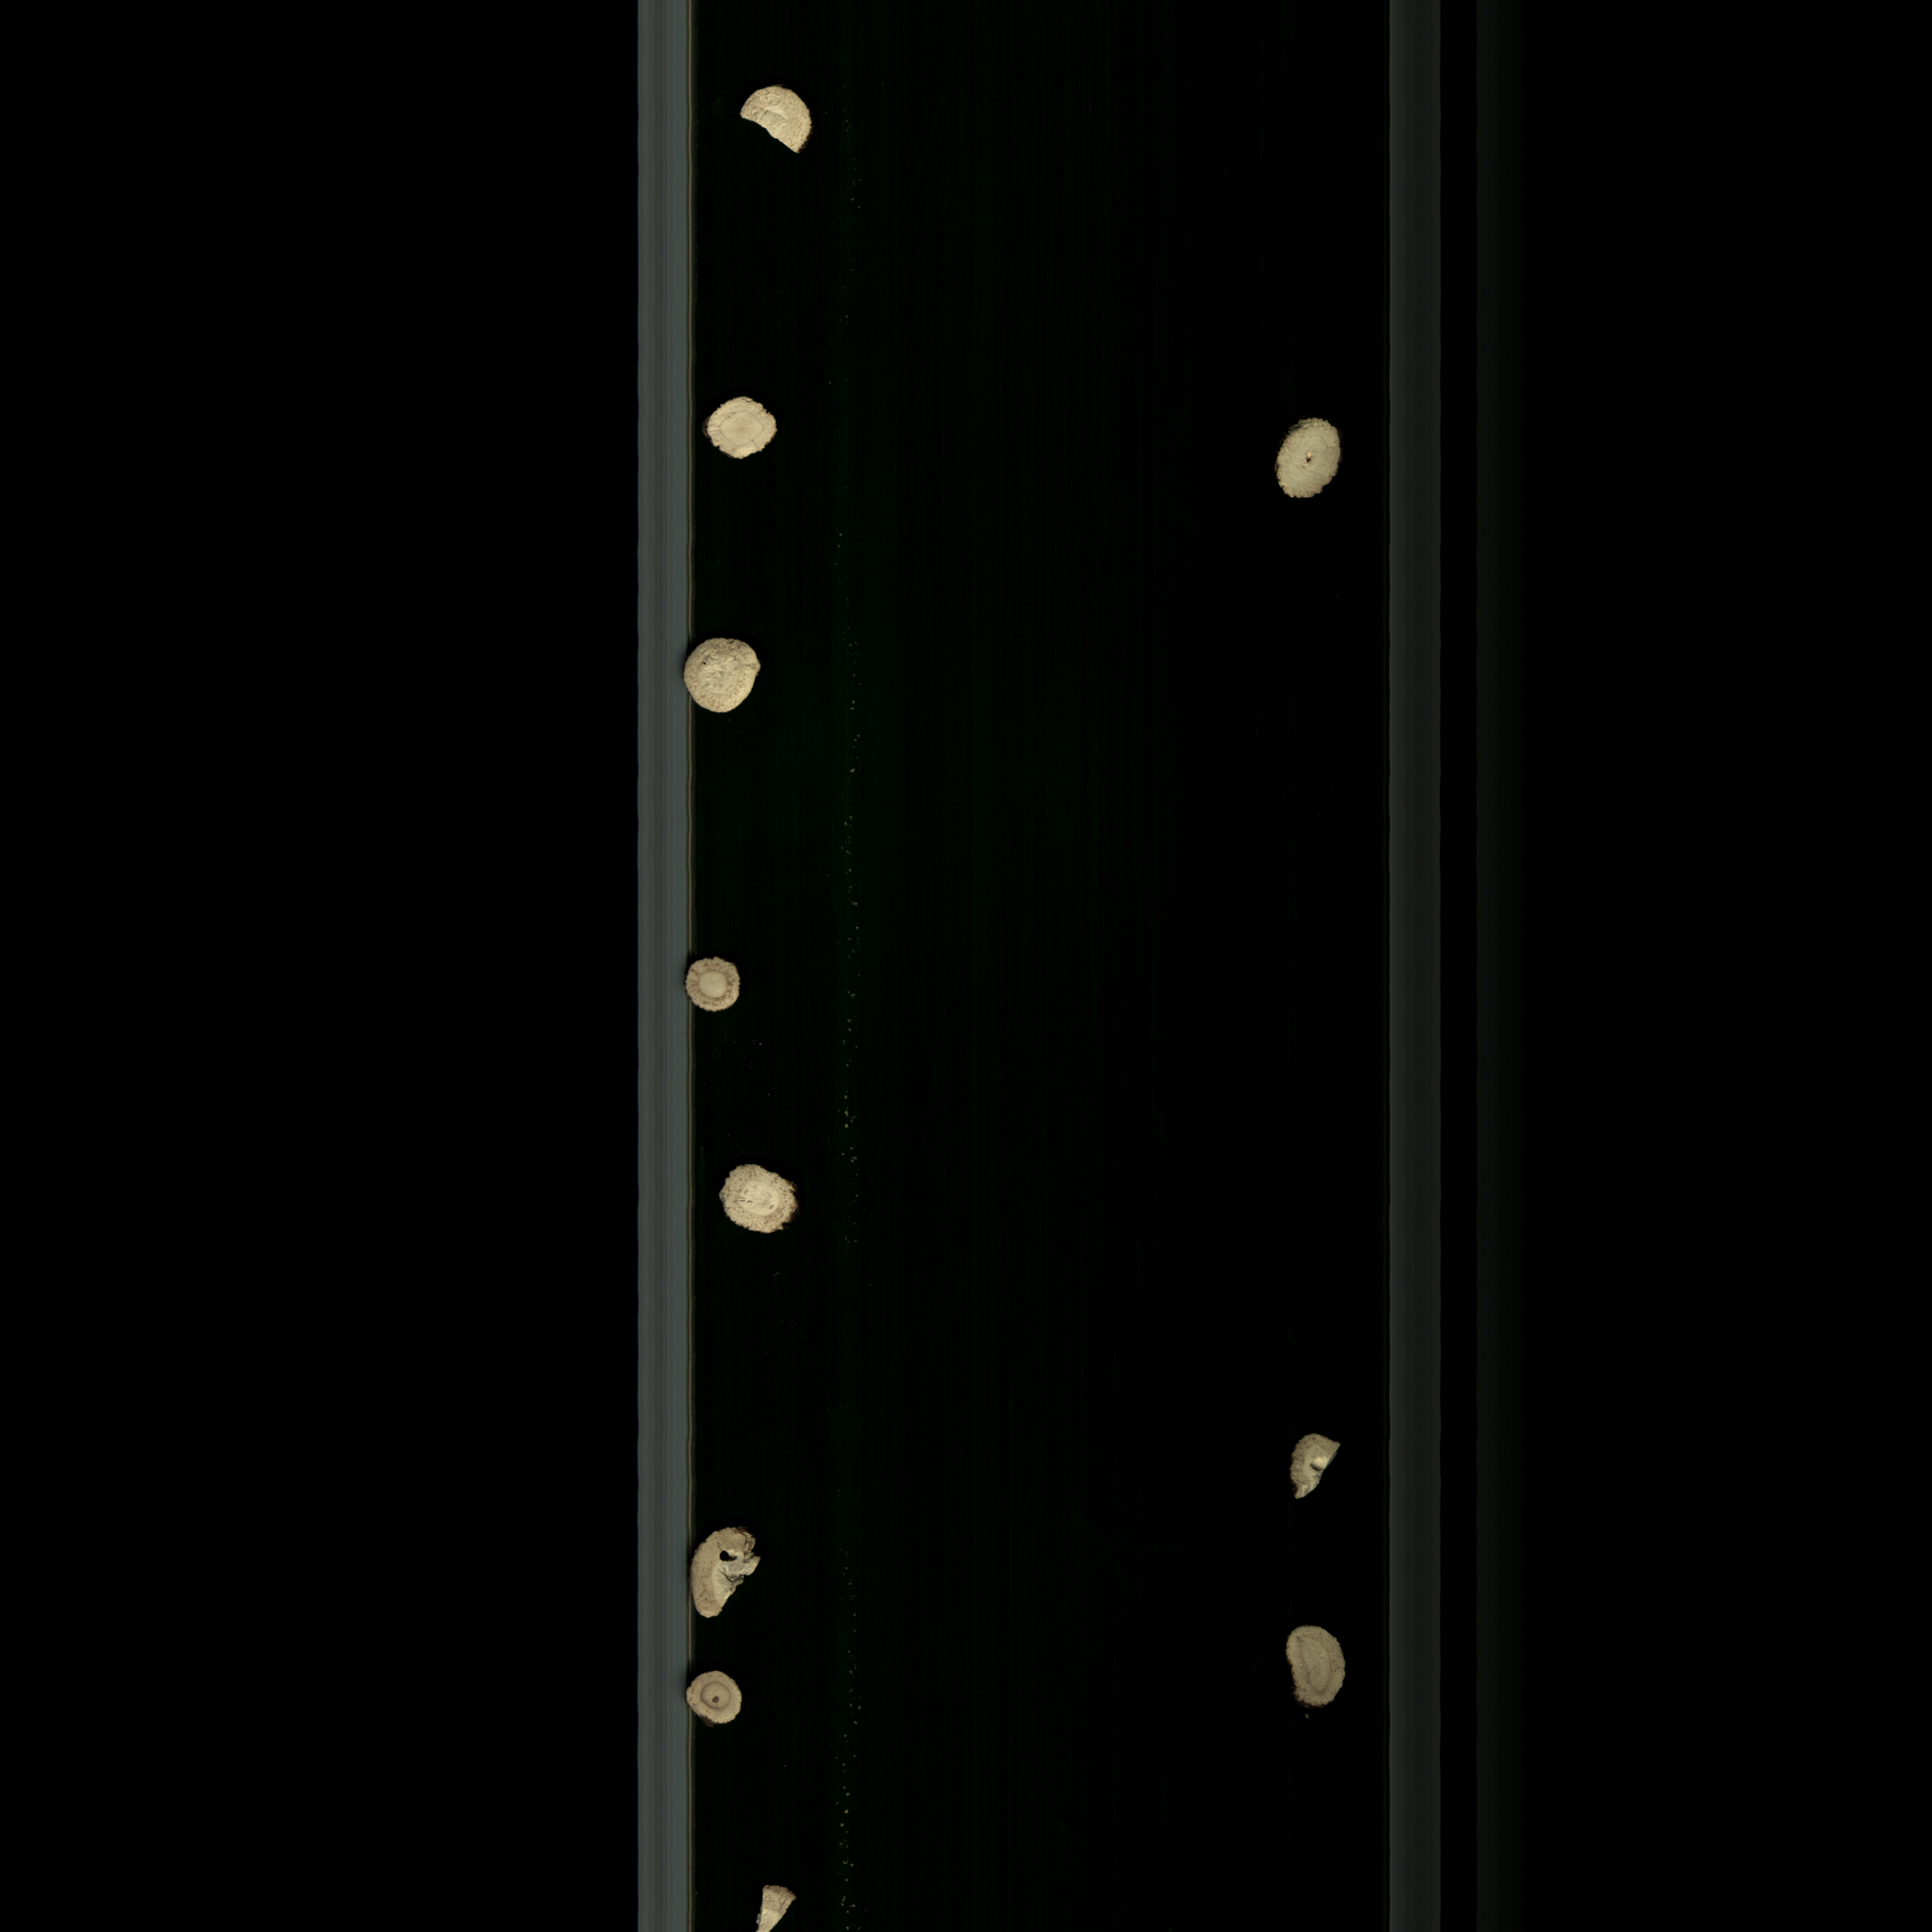debris: (686, 1518, 782, 1631), (727, 76, 823, 168), (1279, 1426, 1348, 1507), (747, 1872, 798, 1932)
distortion: (1276, 1617, 1350, 1718)
hole: (1261, 409, 1353, 515)
moldy: (709, 1155, 816, 1238), (679, 1661, 752, 1739), (679, 952, 750, 1023)
